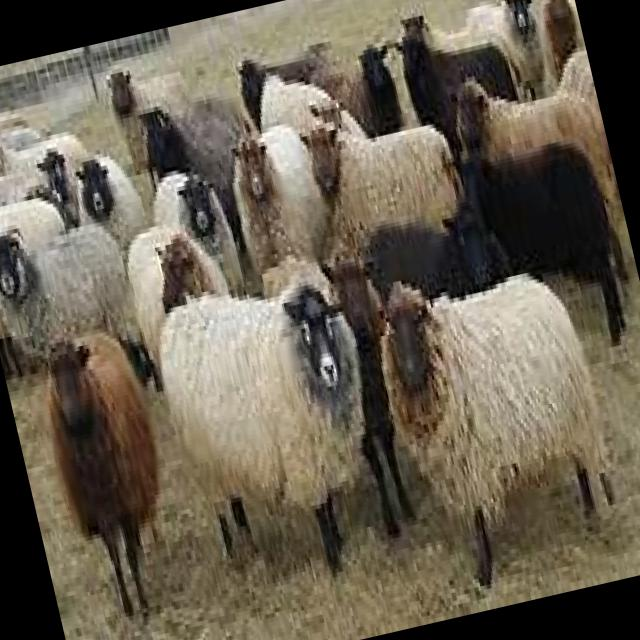sheep: (360, 239, 633, 601), (142, 256, 406, 600), (27, 317, 198, 632), (0, 197, 155, 415), (444, 46, 618, 232), (294, 87, 471, 259), (116, 210, 247, 392), (218, 113, 342, 284), (0, 189, 94, 376), (142, 156, 246, 312), (63, 143, 152, 263)
